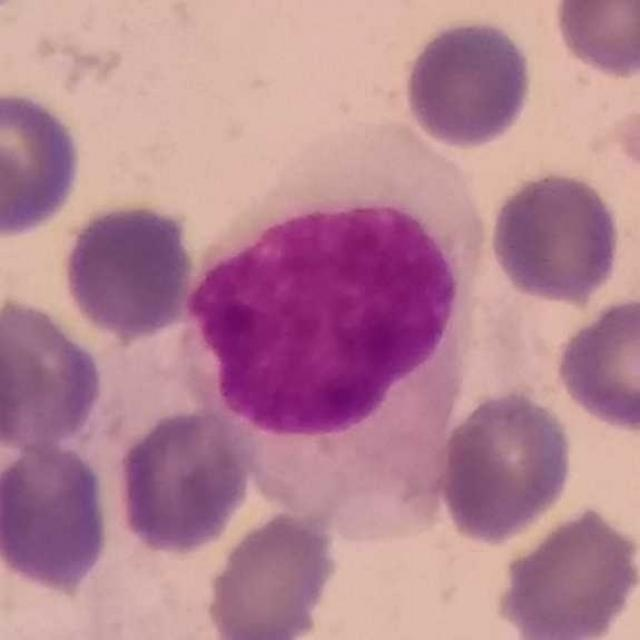mono: (167, 111, 492, 557)
